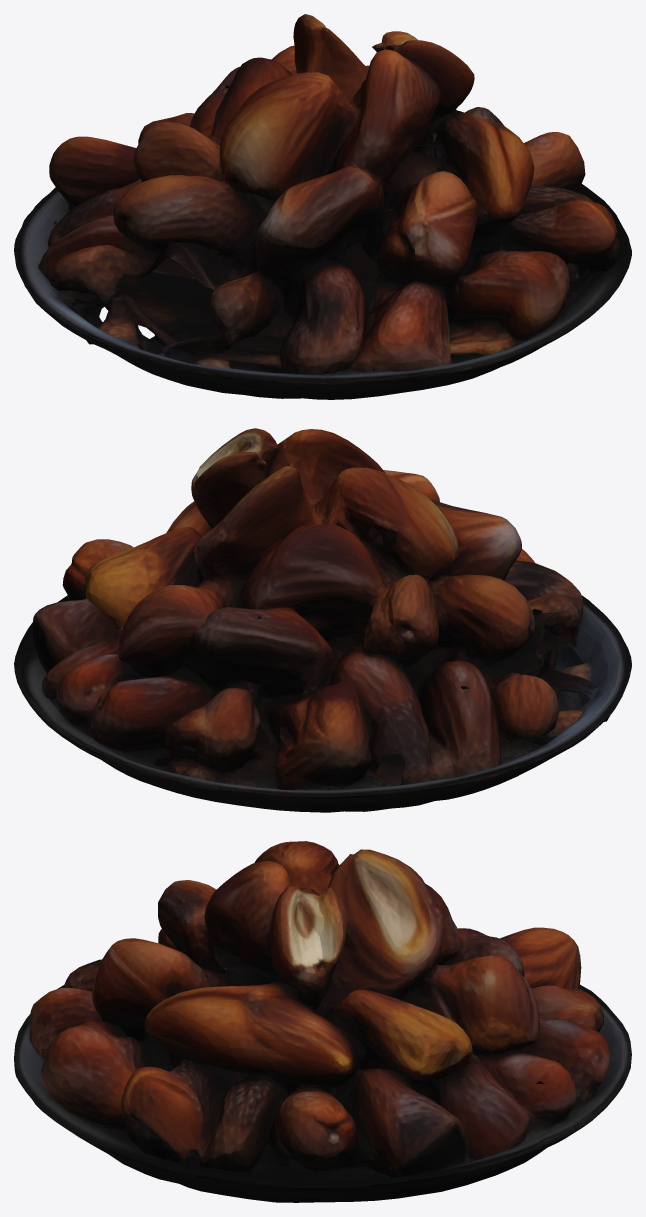
3 views of the same model, one above another, from view 1: azimuth 30°, elevation 25°; view 2: azimuth 150°, elevation 25°; view 3: azimuth 270°, elevation 25° (orthographic).
Parts seen in each view (by area): view 1: world; view 2: world; view 3: world.
Part boxes in pixels (box(x1,y1,x2,y2)): world: box(14, 14, 631, 399); world: box(14, 428, 631, 812); world: box(14, 841, 631, 1202).
Bounding box in the file's own units: 1 × 0.4523 × 0.9997.
1 material, 1 textured.
